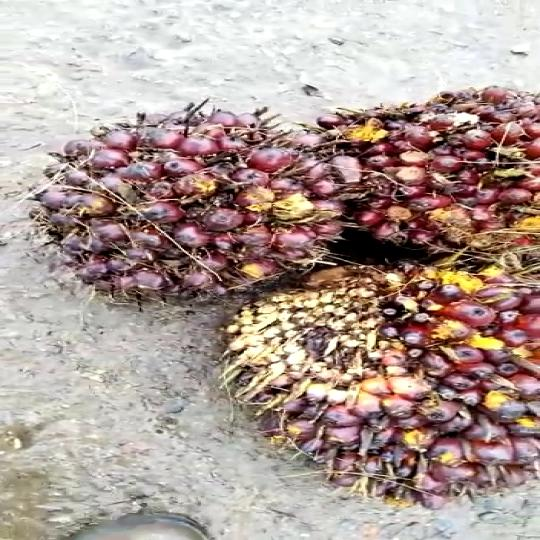masak: (207, 244, 540, 504), (7, 102, 370, 304)
